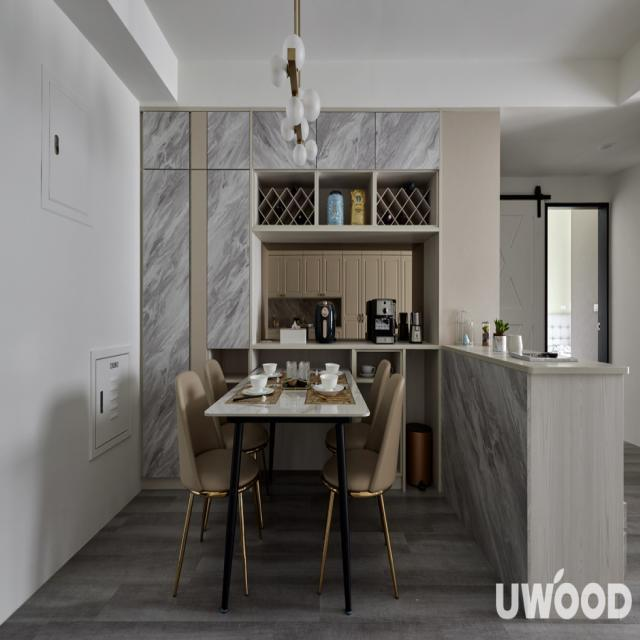table: (163, 346, 422, 604)
